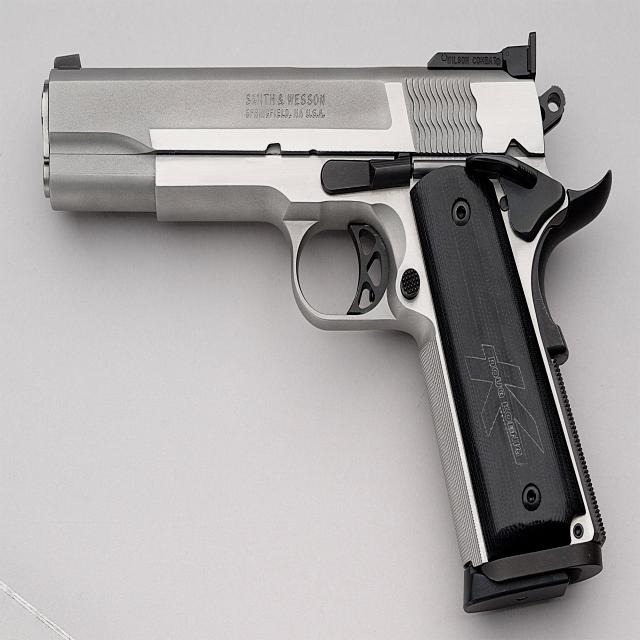pistol: (34, 40, 615, 599)
